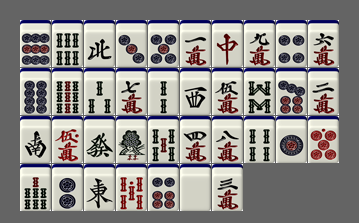0m: (52, 116, 83, 163)
0p: (308, 116, 339, 163)
0s: (116, 164, 147, 211)
1m: (180, 20, 211, 67)
1p: (276, 116, 307, 163)
1s: (116, 116, 147, 163)
1z: (84, 164, 115, 211)
2m: (308, 68, 339, 115)
2p: (52, 164, 83, 211)
2s: (148, 68, 179, 115)
2z: (20, 116, 51, 163)
3m: (212, 164, 243, 211)
3p: (116, 20, 147, 67)
3s: (84, 68, 115, 115)
3z: (180, 68, 211, 115)
4m: (180, 116, 211, 163)
4p: (276, 20, 307, 67)
4s: (244, 116, 275, 163)
4z: (84, 20, 115, 67)
5m: (212, 68, 243, 115)
5p: (148, 20, 179, 67)
5s: (148, 116, 179, 163)
5z: (180, 164, 211, 211)
6m: (308, 20, 339, 67)
6p: (148, 164, 179, 211)
6s: (52, 20, 83, 67)
6z: (84, 116, 115, 163)
7m: (116, 68, 147, 115)
7p: (276, 68, 307, 115)
7s: (20, 164, 51, 211)
7z: (212, 20, 243, 67)
8m: (212, 116, 243, 163)
8p: (20, 68, 51, 115)
8s: (244, 68, 275, 115)
9m: (244, 20, 275, 67)
9p: (20, 20, 51, 67)
9s: (52, 68, 83, 115)
